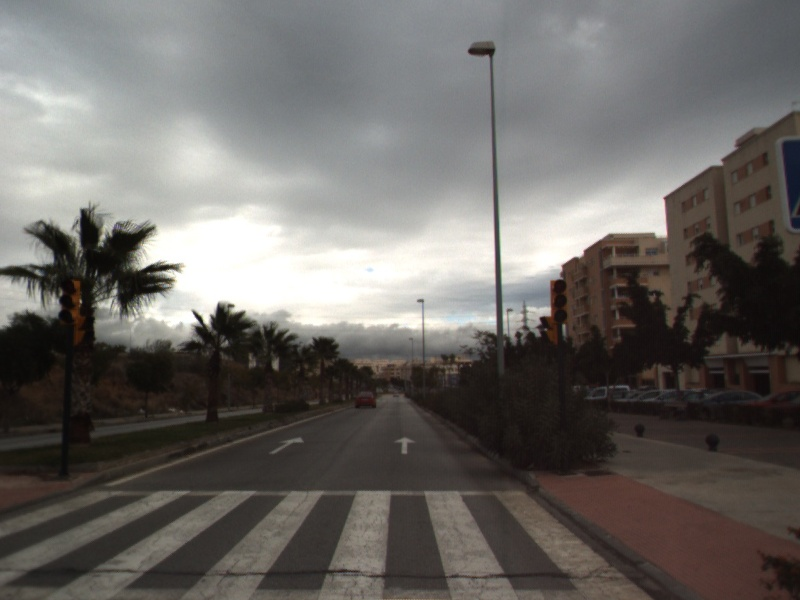STRAIGHT: (267, 435, 306, 456), (392, 434, 418, 456)
